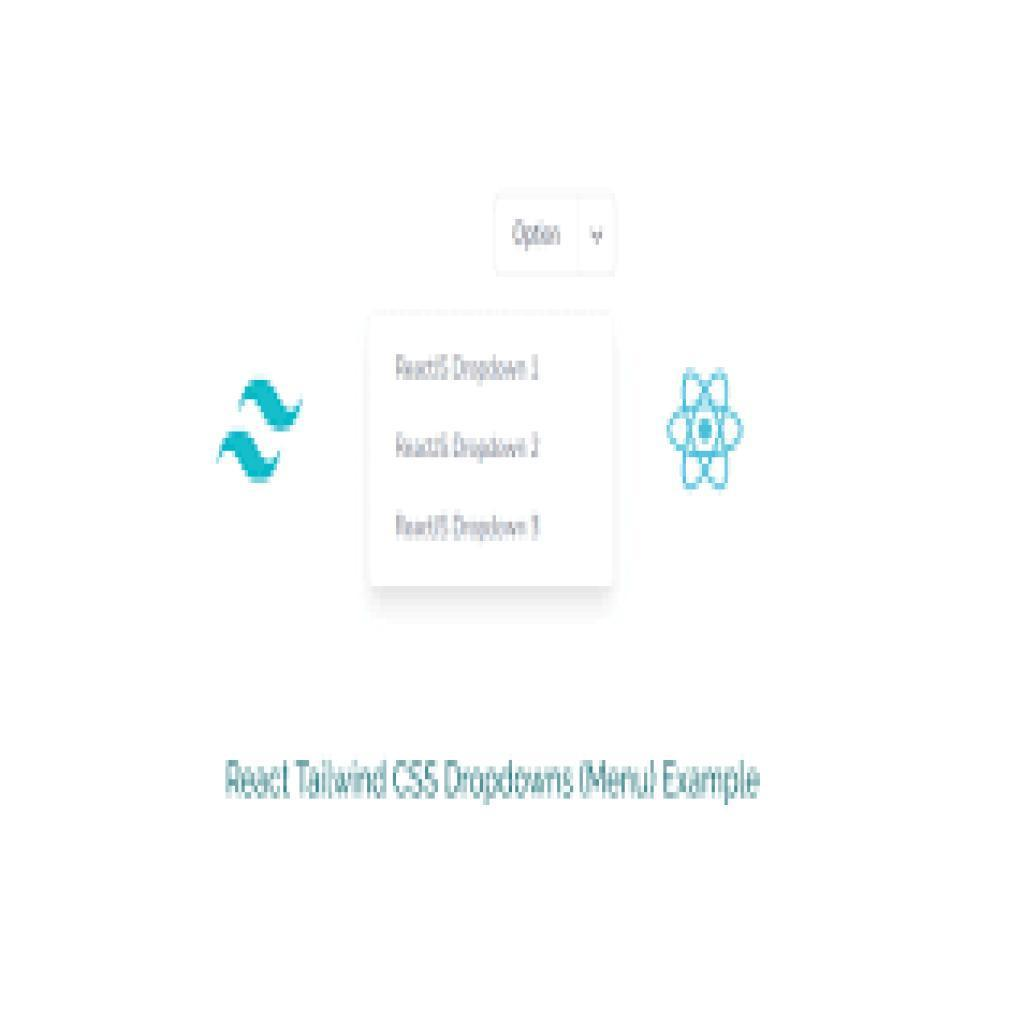dropdown: (501, 196, 618, 278)
